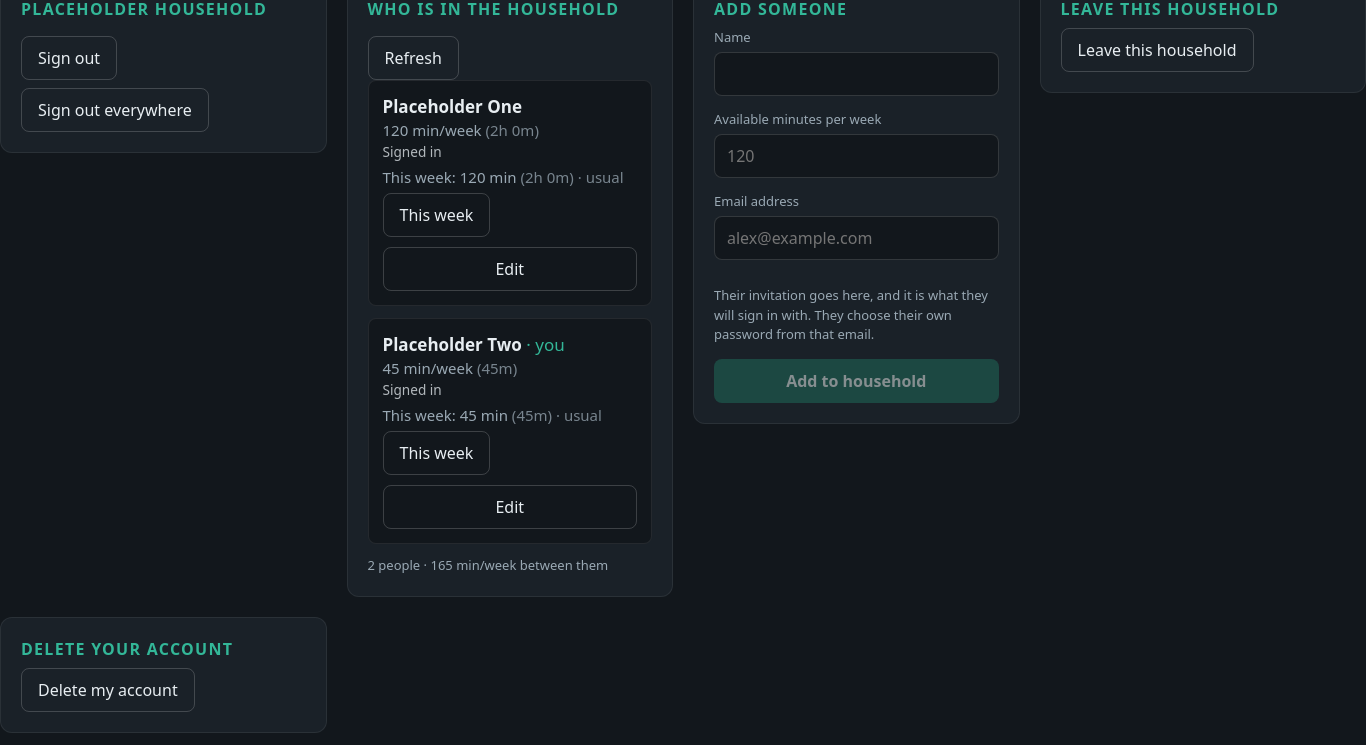
Test: deleting your account from the Who tab (#432) › counts the households when there is more than one, so "last" is not read as "this"
Click the button "Delete my account" at (108, 690), box [21,668,195,712]
(page scrolled)
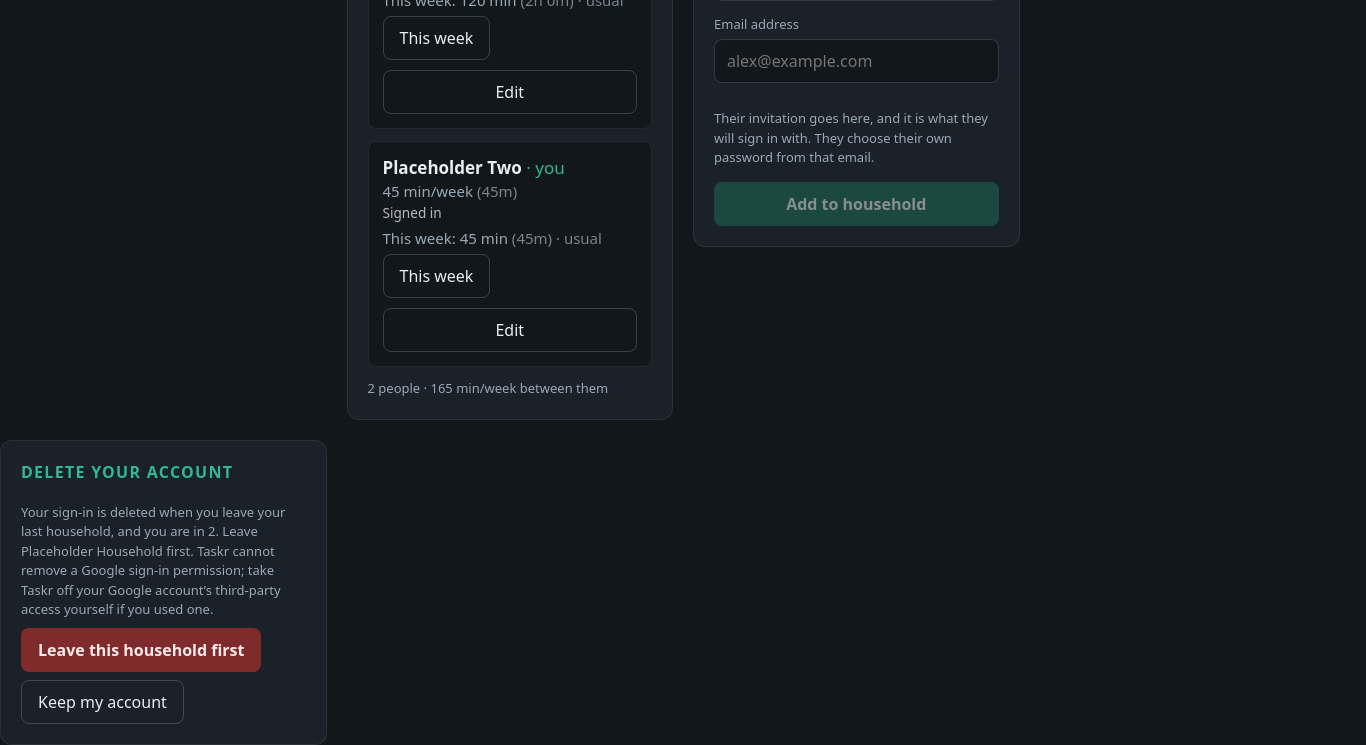
Now the text with test id "delete-account-note" shows "and you are in 2.", box [21,502,306,620]
